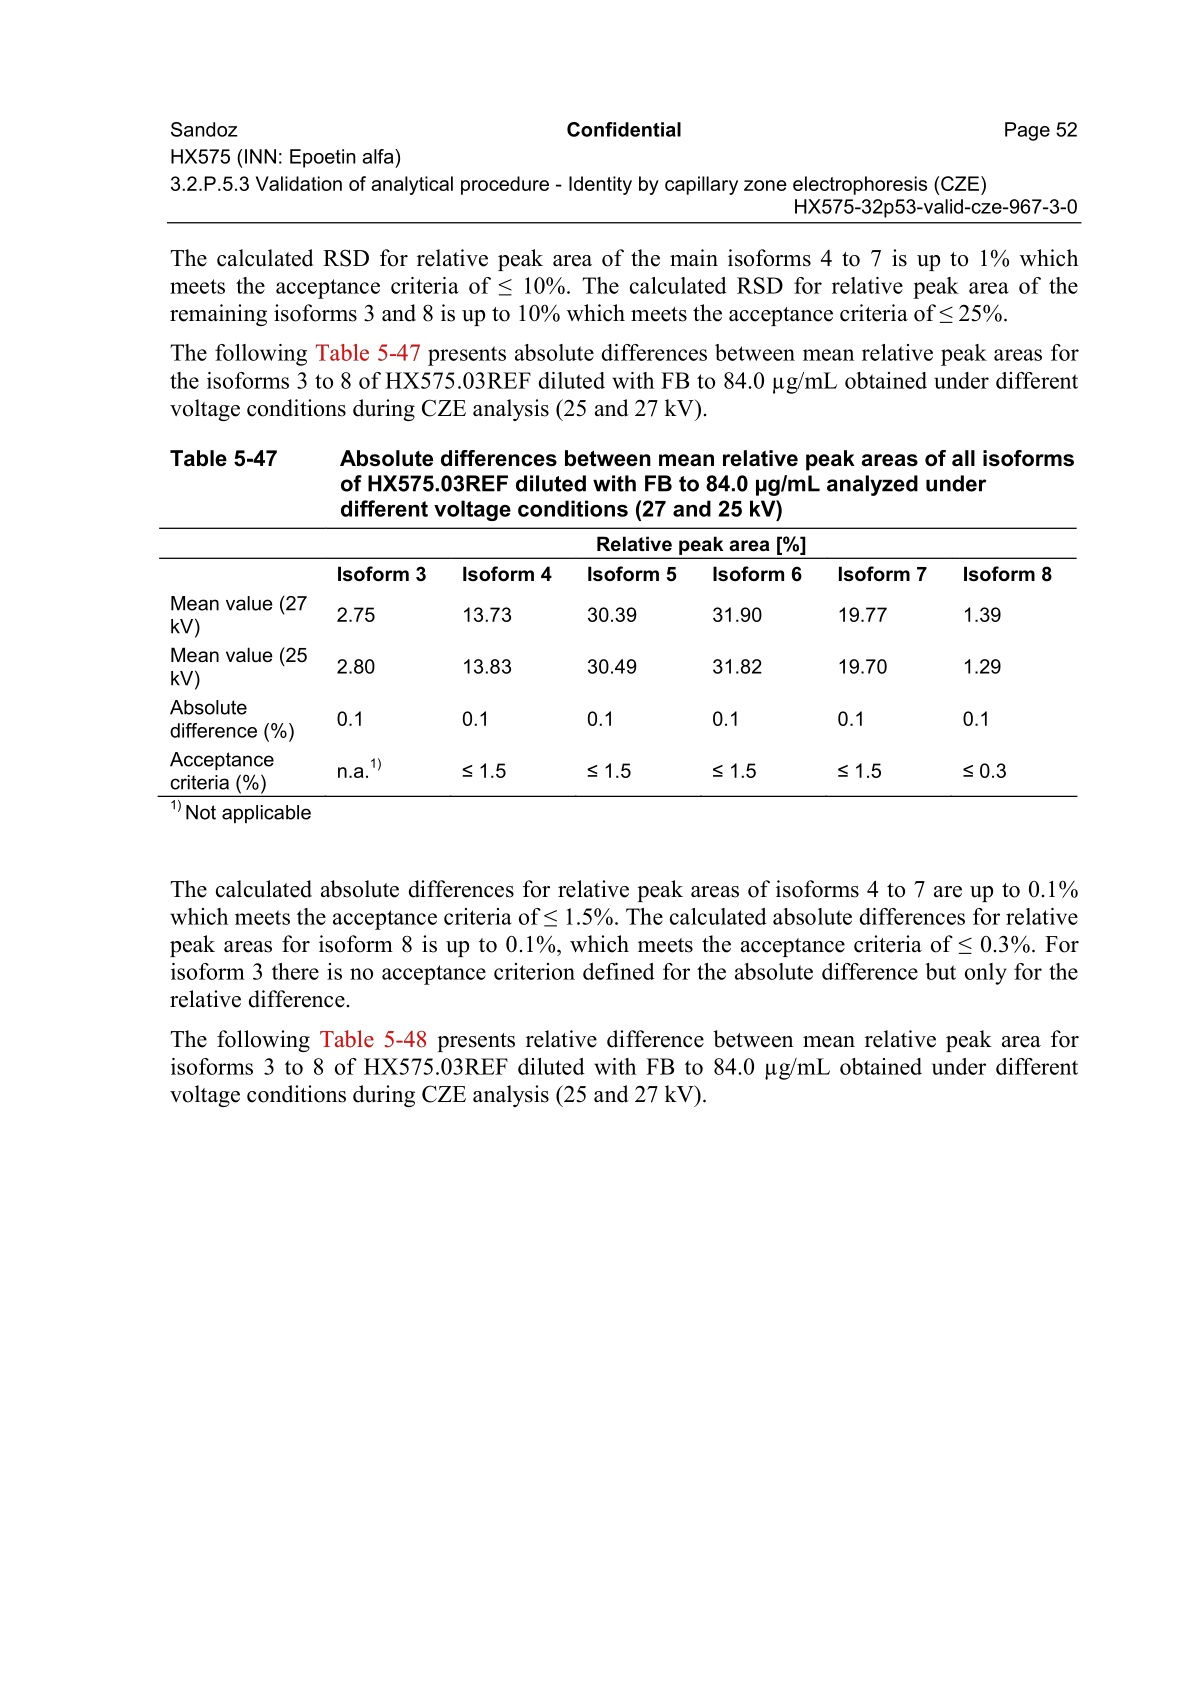partial_lined_merged_cells: (162, 527, 1080, 798)
